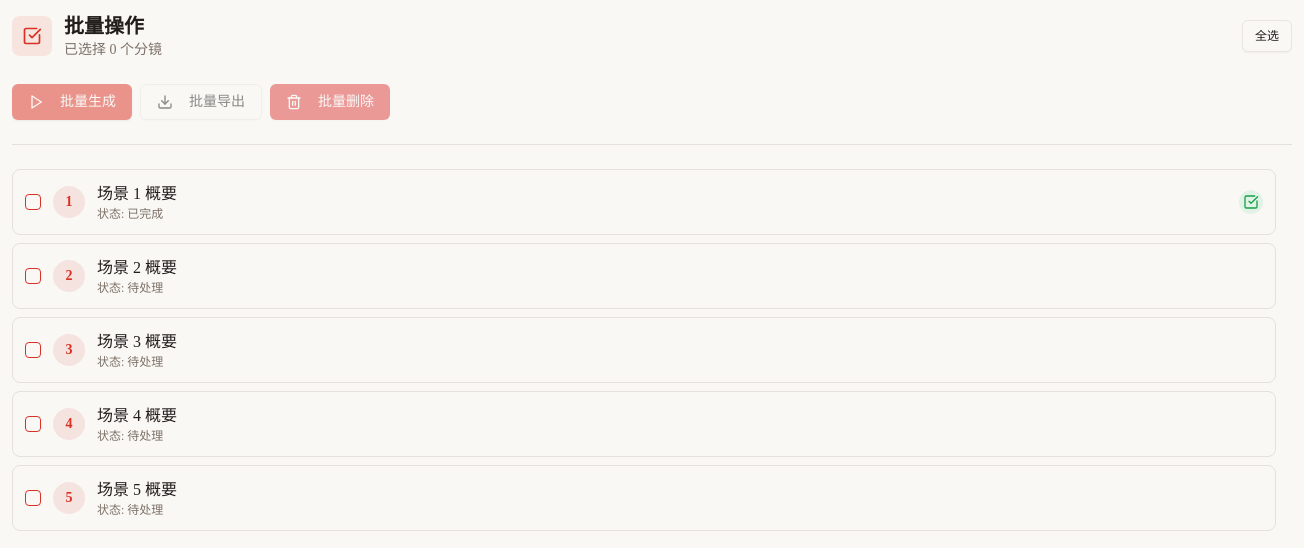
Test: BatchOperations › 分镜选择 › 应该能够选择单个分镜
This screenshot has width=1304, height=548.
Click the text "场景 1 概要": (644, 202) [12,169,1276,235]
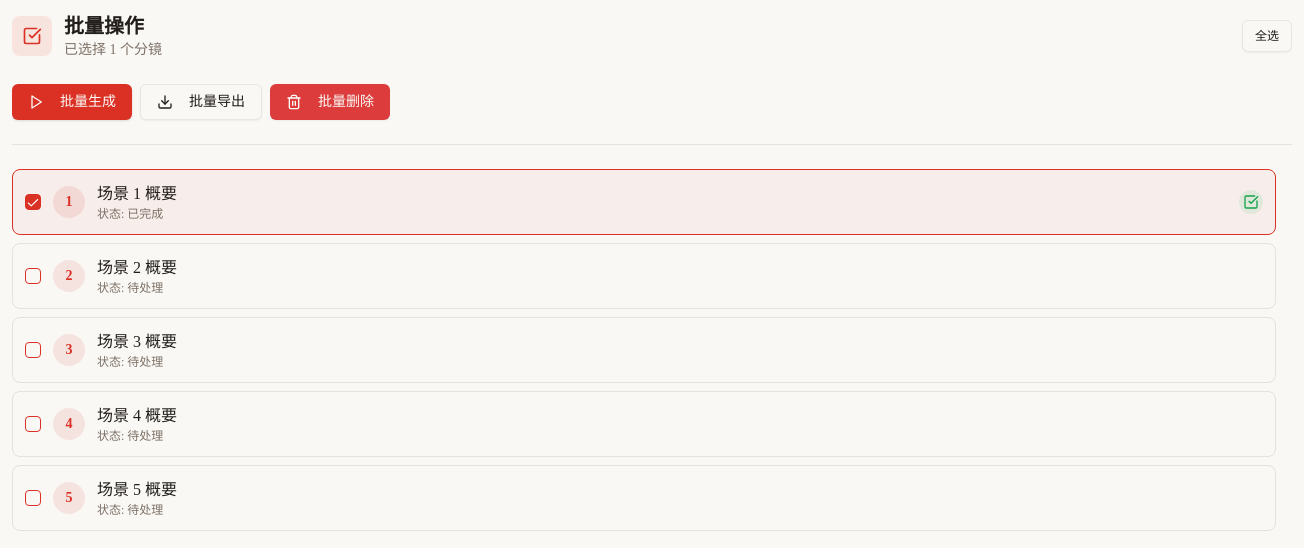
Check: the text "已选择 1 个分镜" is shown, box [64,40,162,60]
